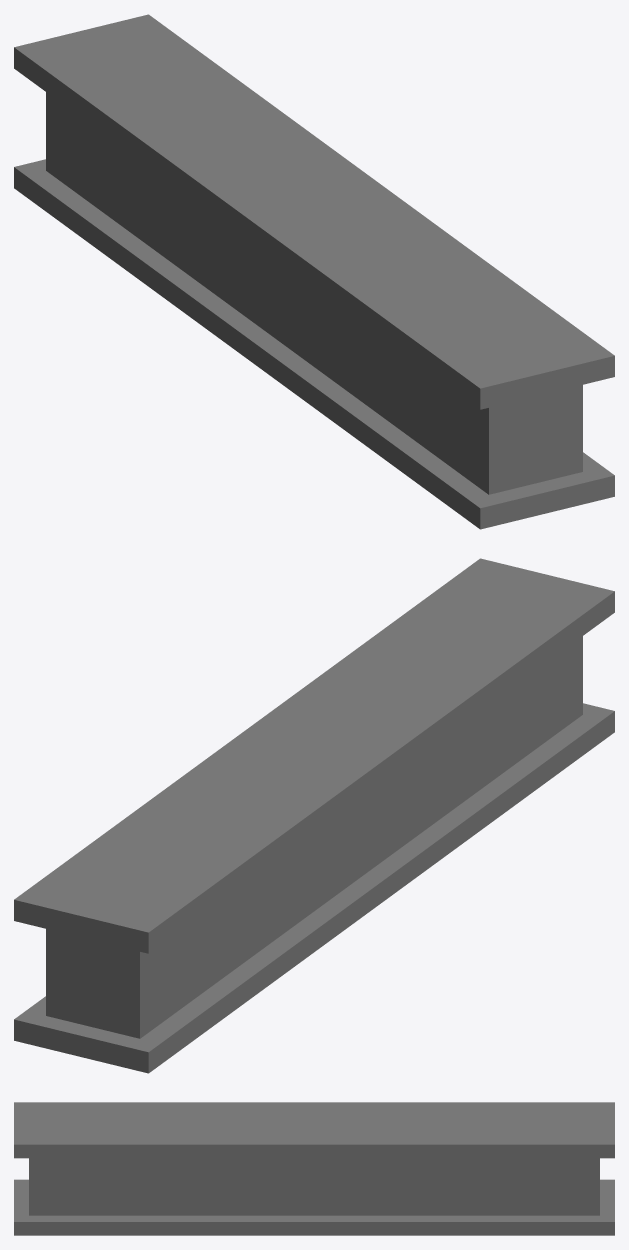
File: tesla_modules1_exterior_pillar_01.dae
3 renders of one model, top to bottom at view 1: azimuth 30°, elevation 25°; view 2: azimuth 150°, elevation 25°; view 3: azimuth 270°, elevation 25°, orthographic. The views are drawn at different scales.
Parts seen in each view (by area): view 1: pCube10; view 2: pCube10; view 3: pCube10.
Boxes of the visible parts, x1,y1,x2,y2 form: pCube10: (14,14,614,529); pCube10: (14,558,614,1073); pCube10: (14,1102,614,1235).
Size of the model in its own units: 1000 by 1000 by 5997.
